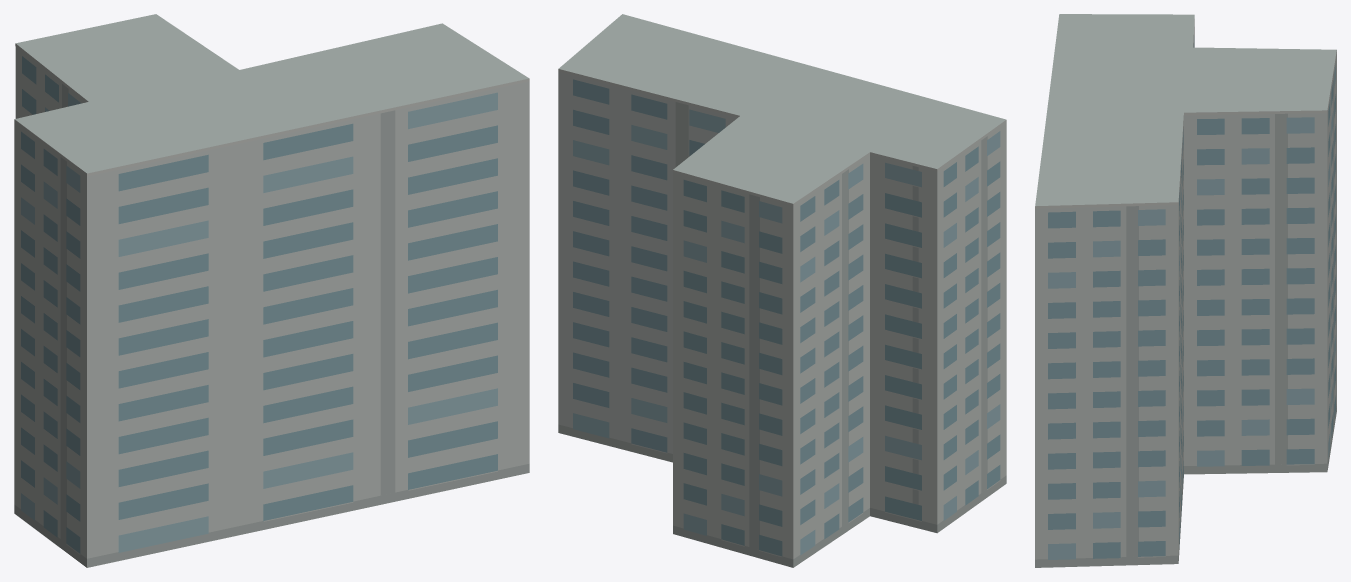
The model's file is residential-2abcd9dc-6bbe-4148-ac5a-9148af9d2047.glb.
The picture shows the model from 3 angles, left to right: view 1: azimuth 30°, elevation 25°; view 2: azimuth 150°, elevation 25°; view 3: azimuth 270°, elevation 25°; orthographic projection. The views are drawn at different scales.
Visible parts, largest first — view 1: residential-2abcd9dc-6bbe-4148-ac5a-9148af9d2047.tmp; view 2: residential-2abcd9dc-6bbe-4148-ac5a-9148af9d2047.tmp; view 3: residential-2abcd9dc-6bbe-4148-ac5a-9148af9d2047.tmp.
Boxes of the visible parts, x1,y1,x2,y2 form: residential-2abcd9dc-6bbe-4148-ac5a-9148af9d2047.tmp: (14,14,529,567); residential-2abcd9dc-6bbe-4148-ac5a-9148af9d2047.tmp: (558,14,1006,567); residential-2abcd9dc-6bbe-4148-ac5a-9148af9d2047.tmp: (1035,14,1336,567).
Bounding box in the file's own units: 36.46 × 32 × 24.2.
